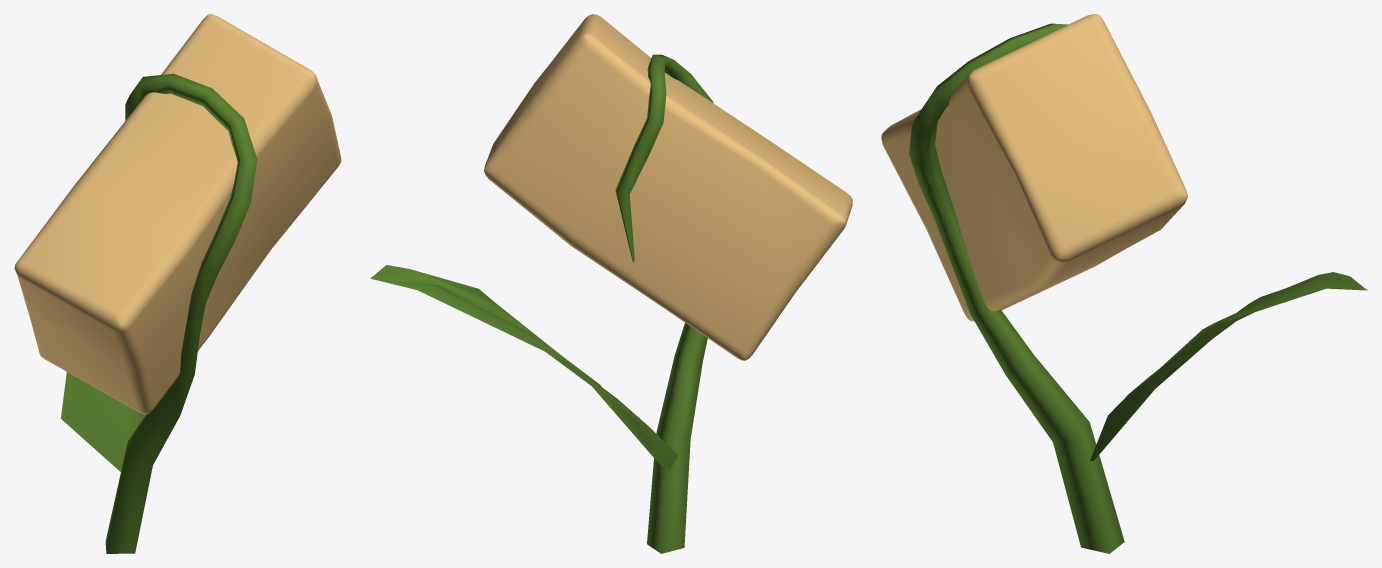
Rendered from butter_plant_2.fbx.
3 views of the same model, side by side, from view 1: azimuth 30°, elevation 25°; view 2: azimuth 150°, elevation 25°; view 3: azimuth 270°, elevation 25° (orthographic). The views are drawn at different scales.
Visible parts, largest first — view 1: NurbsPath.003; view 2: NurbsPath.003; view 3: NurbsPath.003.
Part boxes in pixels (x1,y1,x2,y2): NurbsPath.003: (14, 14, 341, 553); NurbsPath.003: (370, 14, 852, 553); NurbsPath.003: (881, 14, 1367, 553).
Size of the model in its own units: 39.57 by 55.86 by 42.59.
